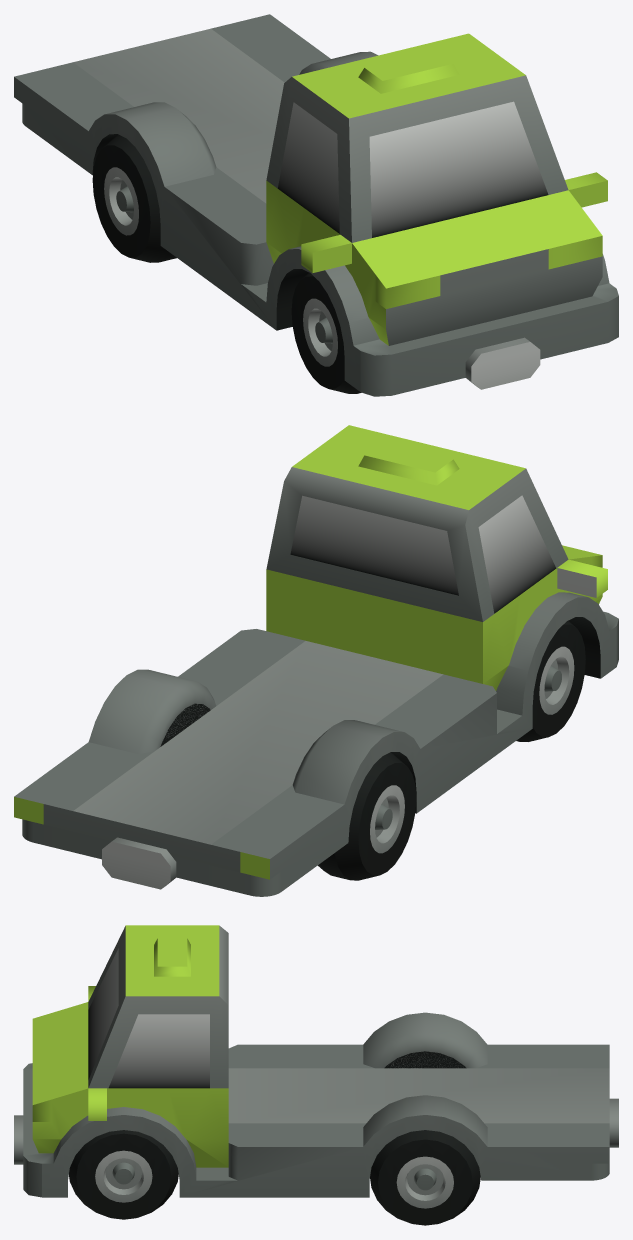
The model's file is delivery-flat.glb.
3 views of the same model, one above another, from view 1: azimuth 30°, elevation 25°; view 2: azimuth 150°, elevation 25°; view 3: azimuth 270°, elevation 25° (orthographic). The views are drawn at different scales.
Visible parts, largest first — view 1: body, wheel-back-right, wheel-front-right; view 2: body, wheel-back-right, wheel-front-right; view 3: body, wheel-back-left, wheel-front-left.
Boxes of the visible parts, x1,y1,x2,y2 form: body: [14, 14, 618, 396]; wheel-back-right: [92, 134, 176, 262]; wheel-front-right: [291, 272, 361, 393]; body: [14, 425, 618, 896]; wheel-back-right: [318, 752, 416, 880]; wheel-front-right: [516, 621, 585, 741]; body: [14, 925, 618, 1197]; wheel-back-left: [370, 1130, 480, 1225]; wheel-front-left: [69, 1130, 178, 1219].
Bounding box in the file's own units: 1.5 × 1.35 × 3.25.
